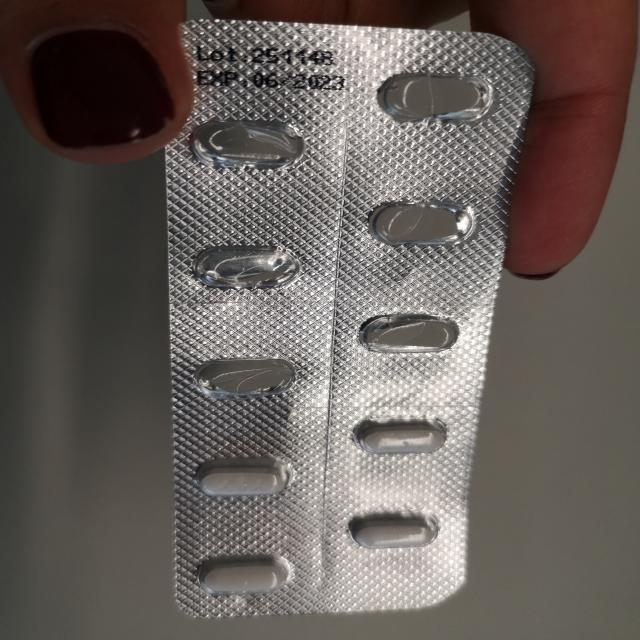Empty: (370, 67, 502, 129), (184, 117, 314, 172), (182, 240, 308, 295), (362, 197, 483, 250), (351, 308, 465, 358), (185, 354, 302, 401)
Pill: (346, 415, 452, 459), (191, 556, 294, 600), (191, 459, 295, 501), (343, 512, 441, 552)
